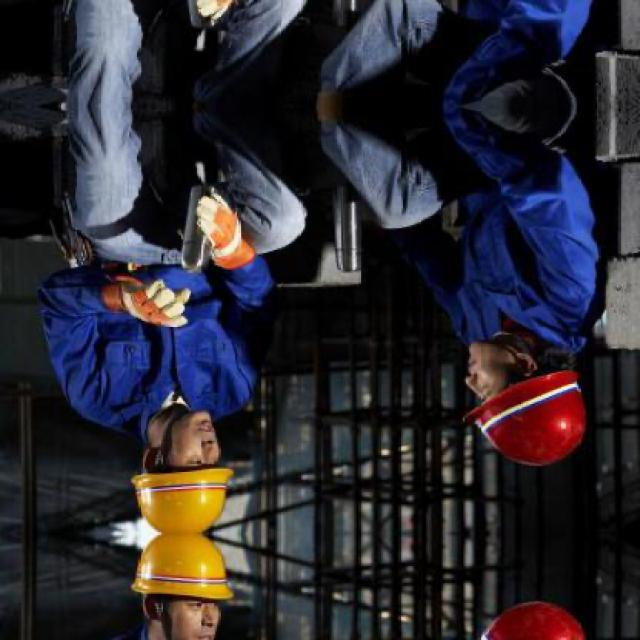con casco: (468, 344, 591, 470), (137, 405, 242, 535)
